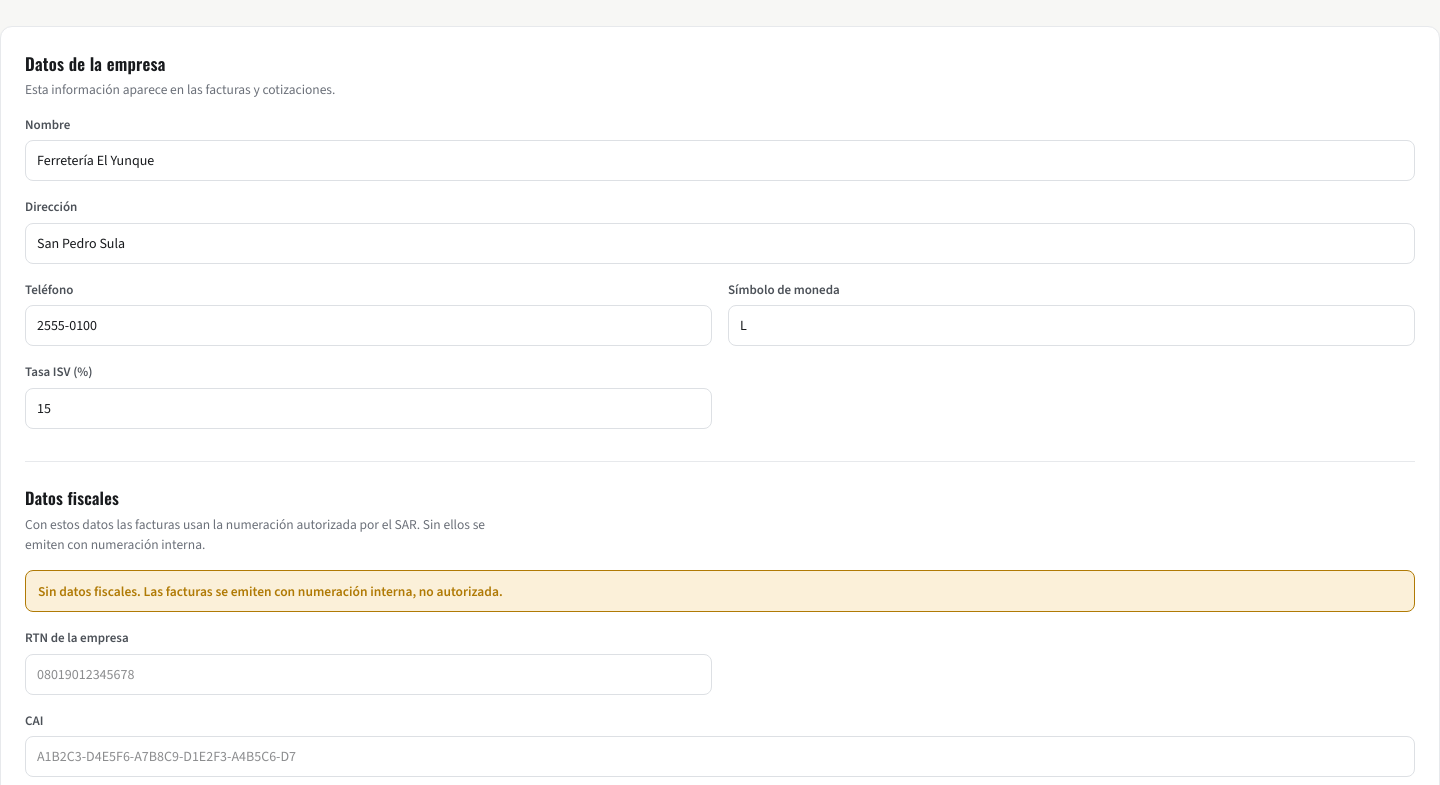
it: Settings: datos de la empresa › deshacer cambios devuelve los valores guardados
The image size is (1440, 785).
Expected: the heading "Datos de la empresa" is shown, [25,51,166,76]
Step 1. Replace the text in the field labelled "Nombre" with "Cambio temporal" → (720, 161), box [25,140,1415,181]
(page scrolled)
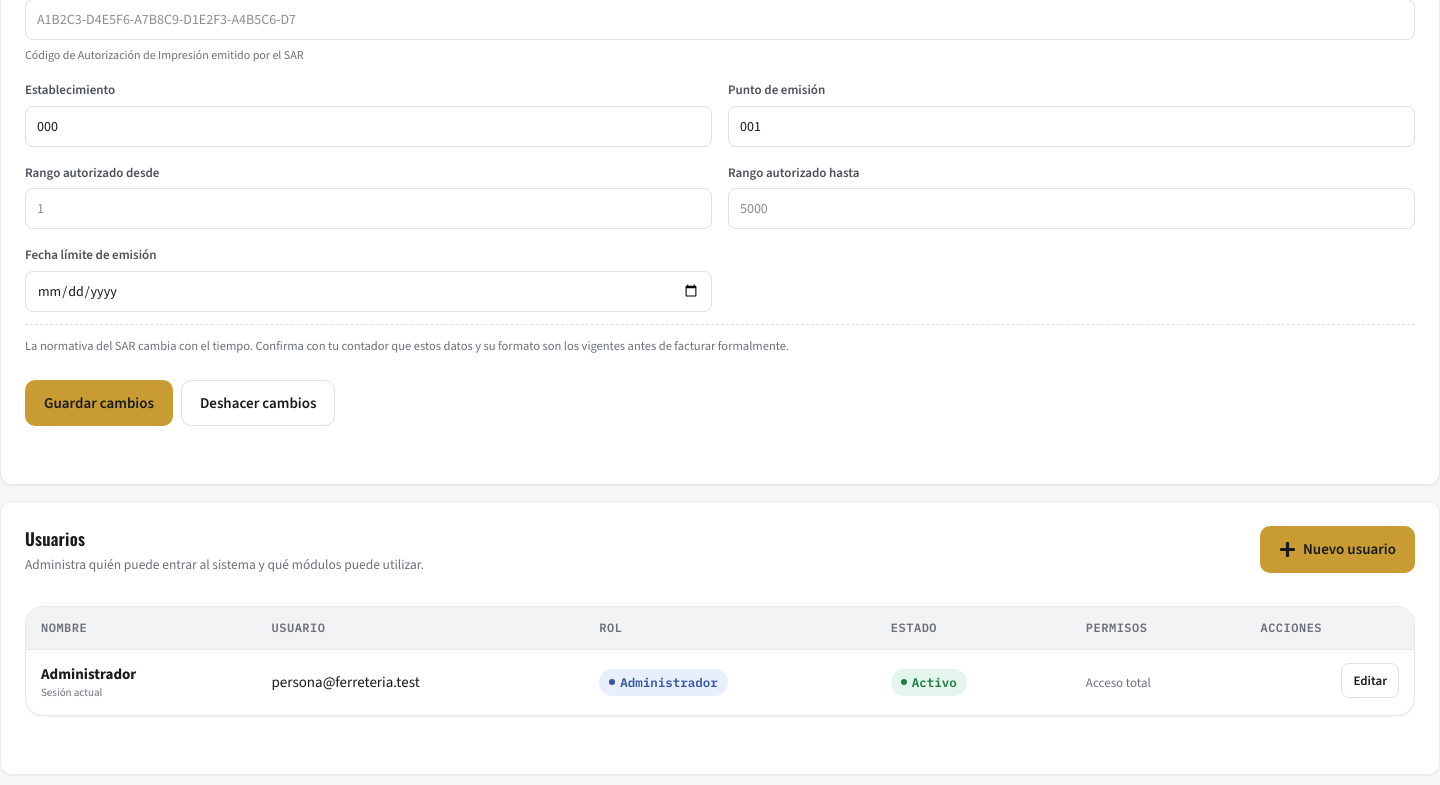
Step 2. Click the button "Deshacer cambios" → (258, 403), box [181,380,335,426]
(page scrolled)
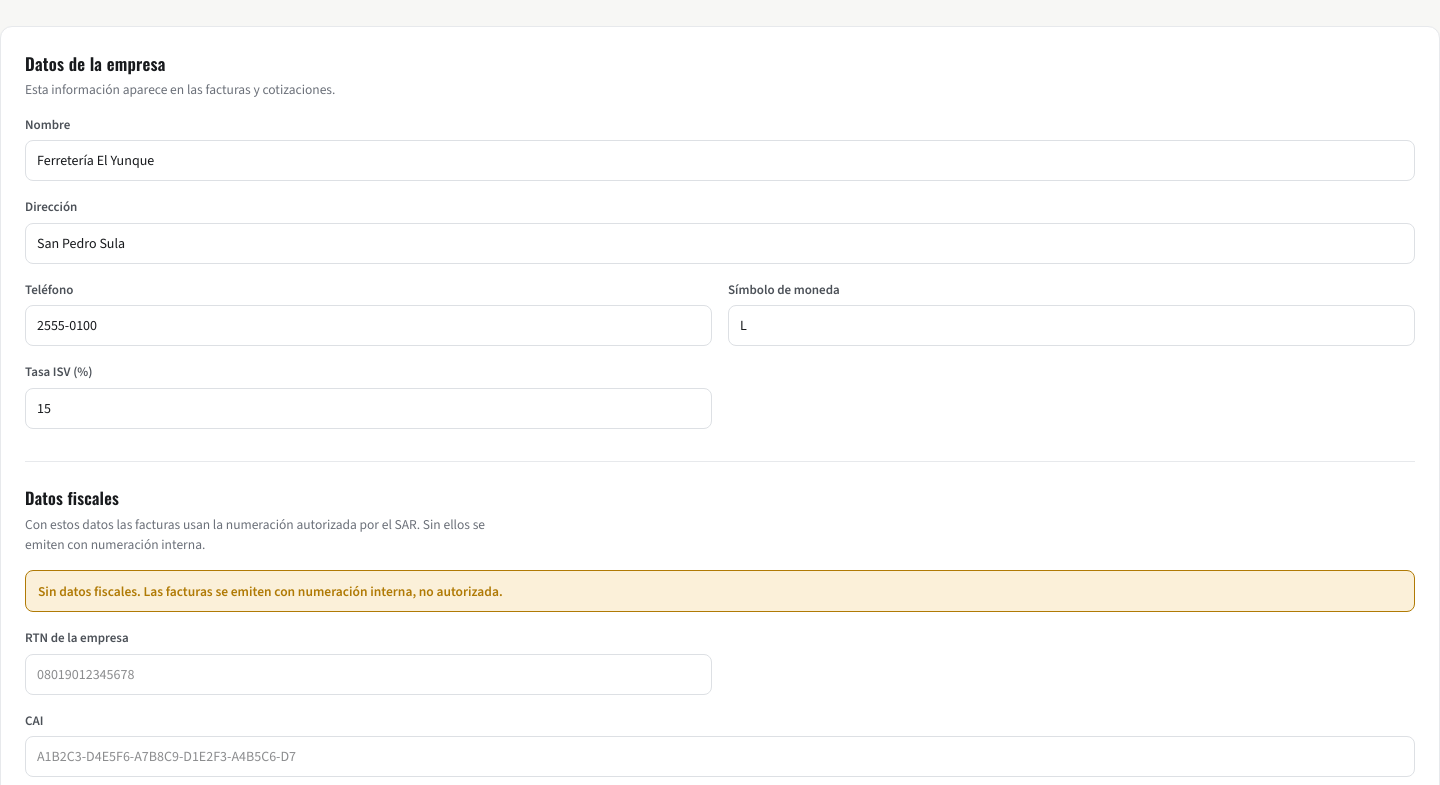
Now the field labelled "Nombre" holds "Ferretería El Yunque", box [25,140,1415,181]
